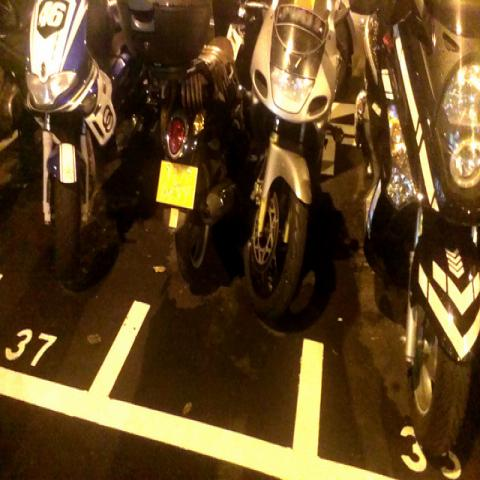motorcycle: (345, 0, 479, 461), (27, 2, 214, 298), (242, 2, 356, 325), (155, 3, 274, 275)
